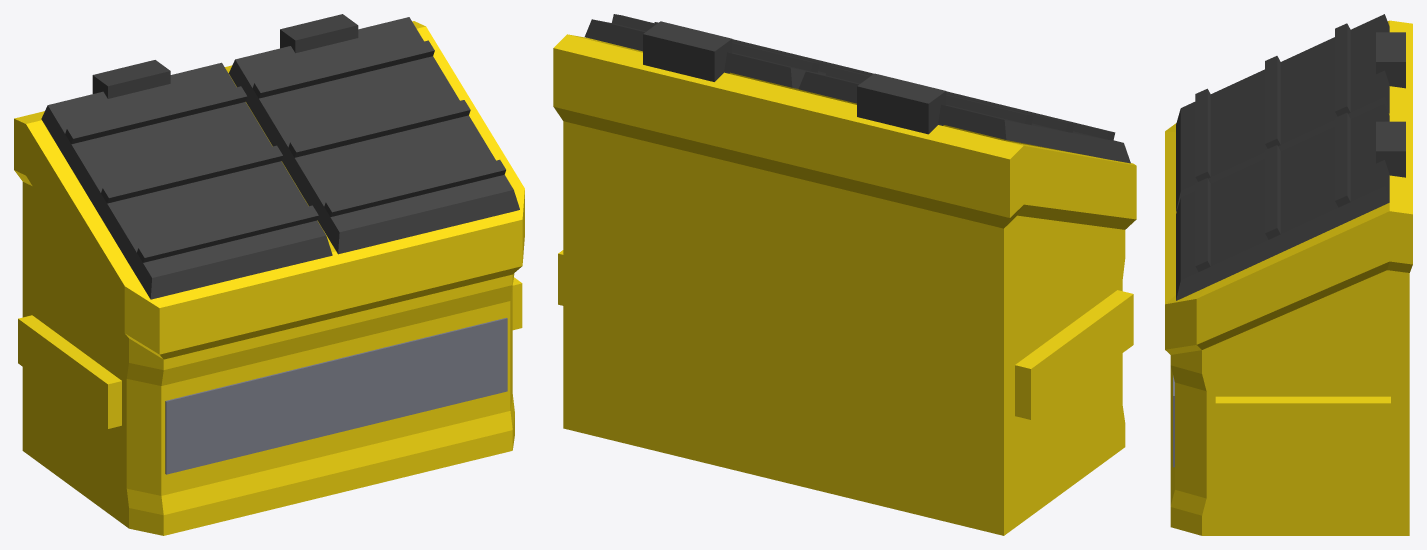
Rendered from Plastic.glb.
3 renders of one model, left to right at view 1: azimuth 30°, elevation 25°; view 2: azimuth 150°, elevation 25°; view 3: azimuth 270°, elevation 25°, orthographic. The views are drawn at different scales.
Parts seen in each view (by area): view 1: TrashContainer.001; view 2: TrashContainer.001; view 3: TrashContainer.001.
Part boxes in pixels (x1,y1,x2,y2): TrashContainer.001: [14, 14, 524, 535]; TrashContainer.001: [553, 14, 1136, 535]; TrashContainer.001: [1165, 14, 1412, 535].
Bounding box in the file's own units: 2.44 × 2.03 × 1.3.
